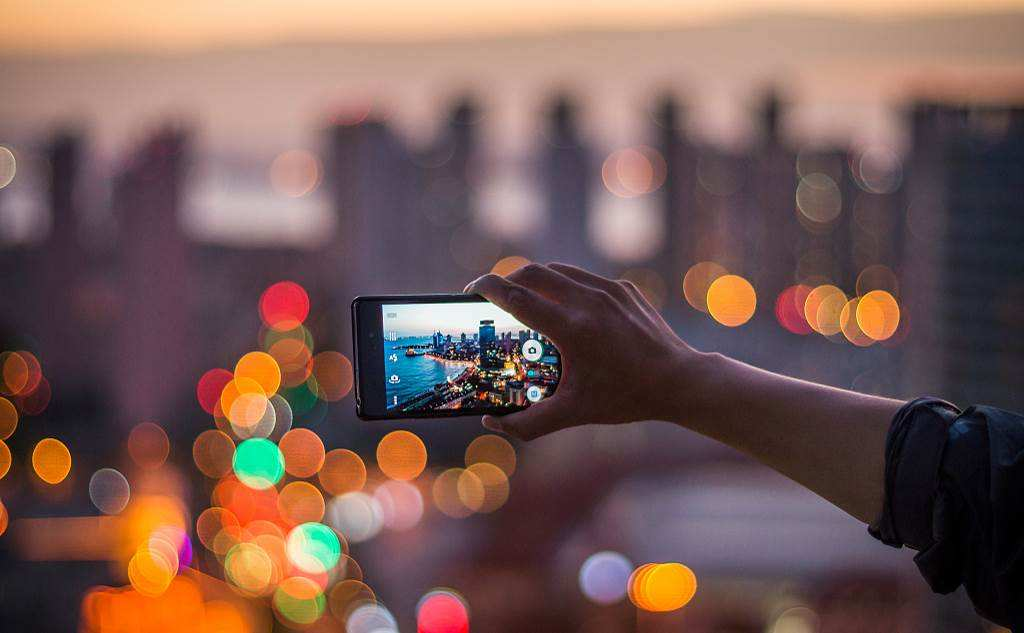taking photos: (340, 253, 695, 445)
